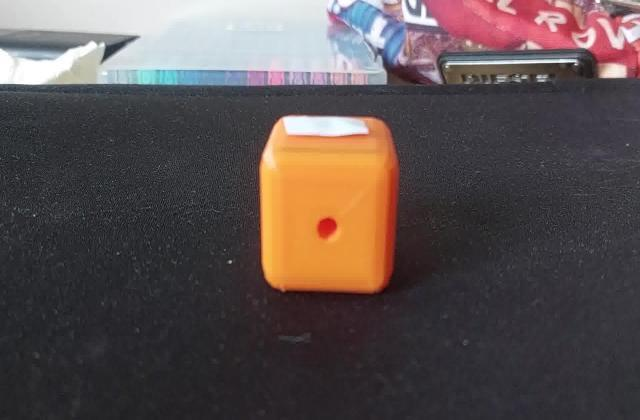cube: (254, 109, 403, 300)
white: (281, 115, 375, 142)
